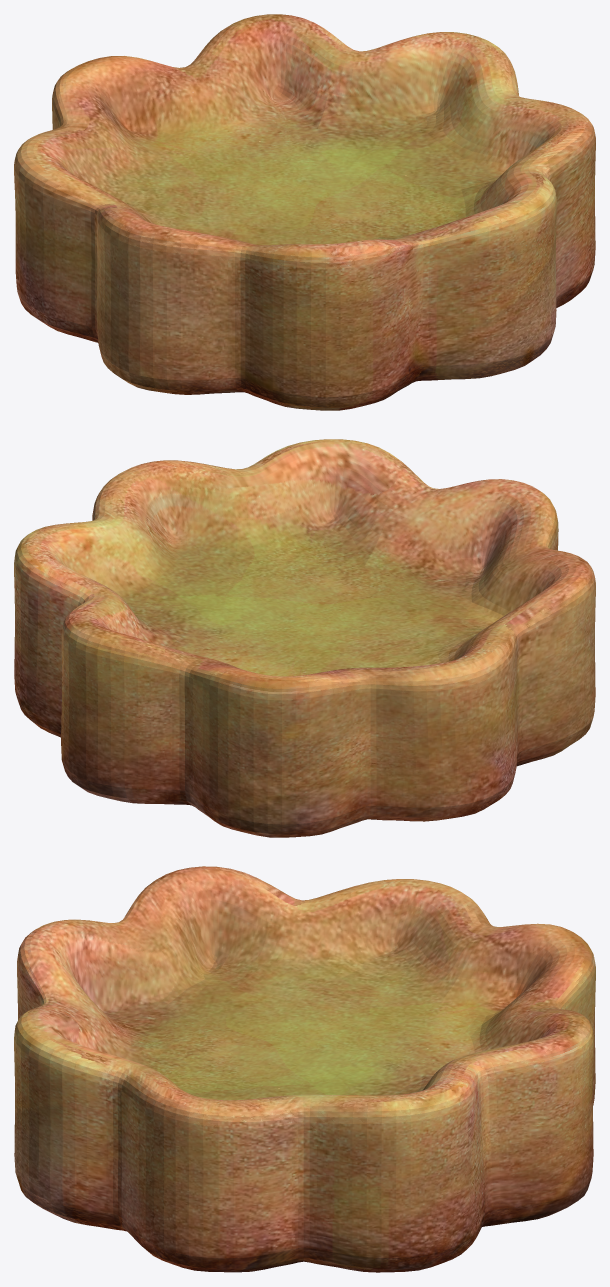
Rendered from kueh_bingka_highres.gltf.
3 renders of one model, top to bottom at view 1: azimuth 30°, elevation 25°; view 2: azimuth 150°, elevation 25°; view 3: azimuth 270°, elevation 25°, orthographic. The views are drawn at different scales.
Visible parts, largest first — view 1: Kueh Bingka; view 2: Kueh Bingka; view 3: Kueh Bingka.
Part boxes in pixels (left/top/right/bottom): Kueh Bingka: left=14, top=14, right=595, bottom=410; Kueh Bingka: left=14, top=439, right=595, bottom=837; Kueh Bingka: left=14, top=866, right=595, bottom=1272.
Size of the model in its own units: 7.21 by 2.54 by 7.21.
Materials: 1 (1 with a texture image).
